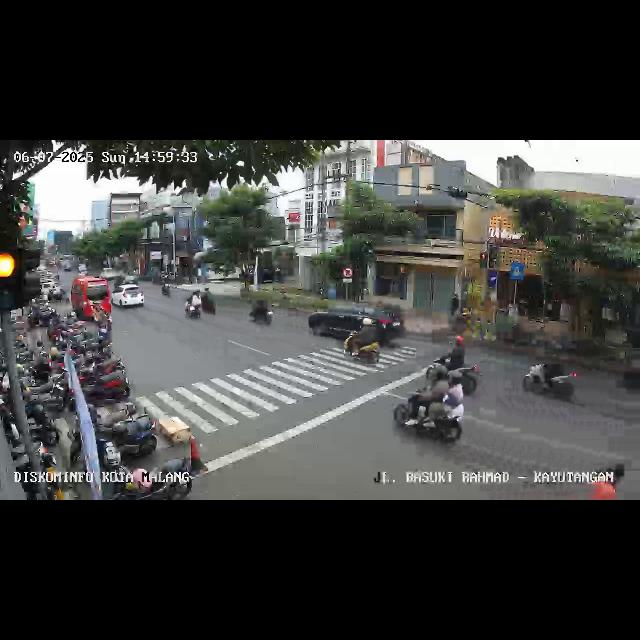car: (308, 300, 404, 350), (70, 276, 111, 322), (608, 341, 640, 392), (112, 282, 146, 312)
motorcycle: (398, 371, 467, 447), (426, 335, 480, 395), (520, 353, 582, 405), (344, 316, 388, 372), (248, 296, 276, 328), (186, 291, 204, 323), (205, 288, 217, 316), (160, 275, 173, 299)
